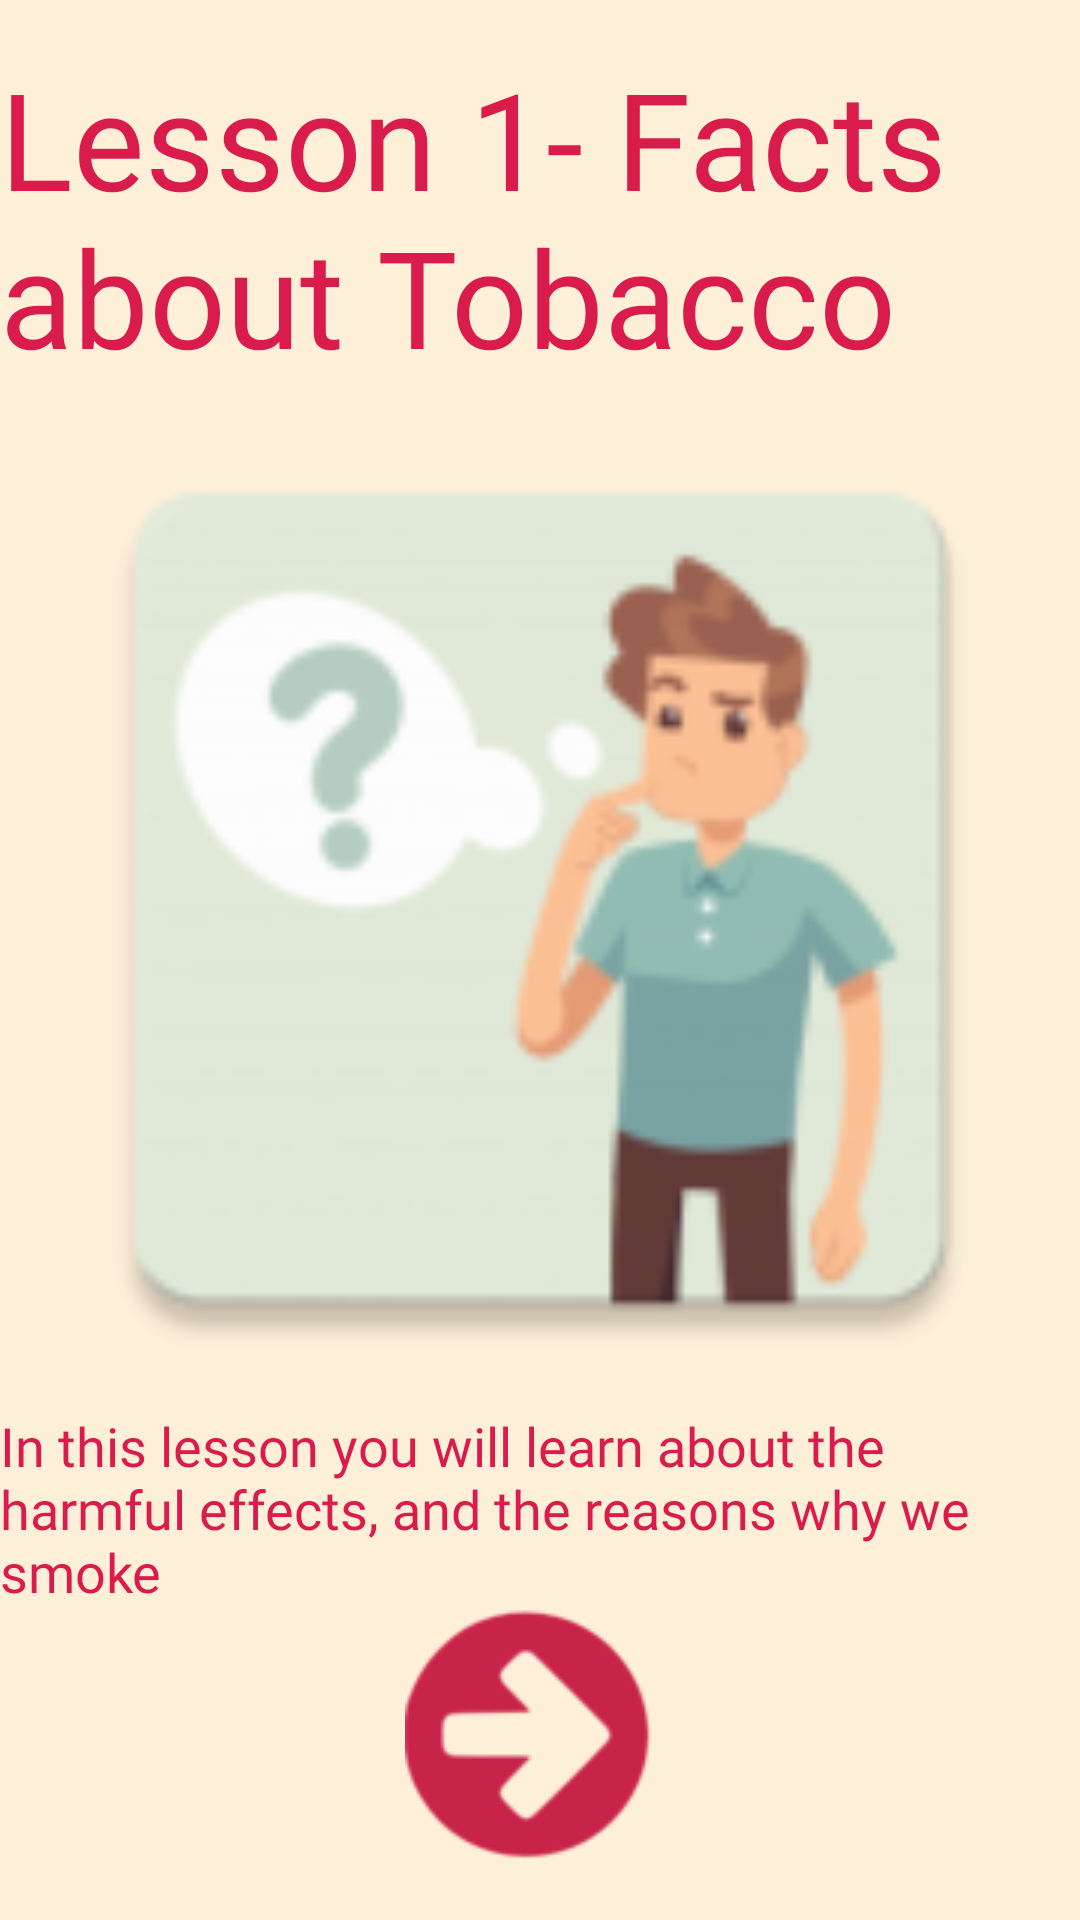

Where icons sit on this 1080*1920 app screen, as Rect(x1, y1, x2, y2):
next: Rect(405, 1610, 650, 1858)
